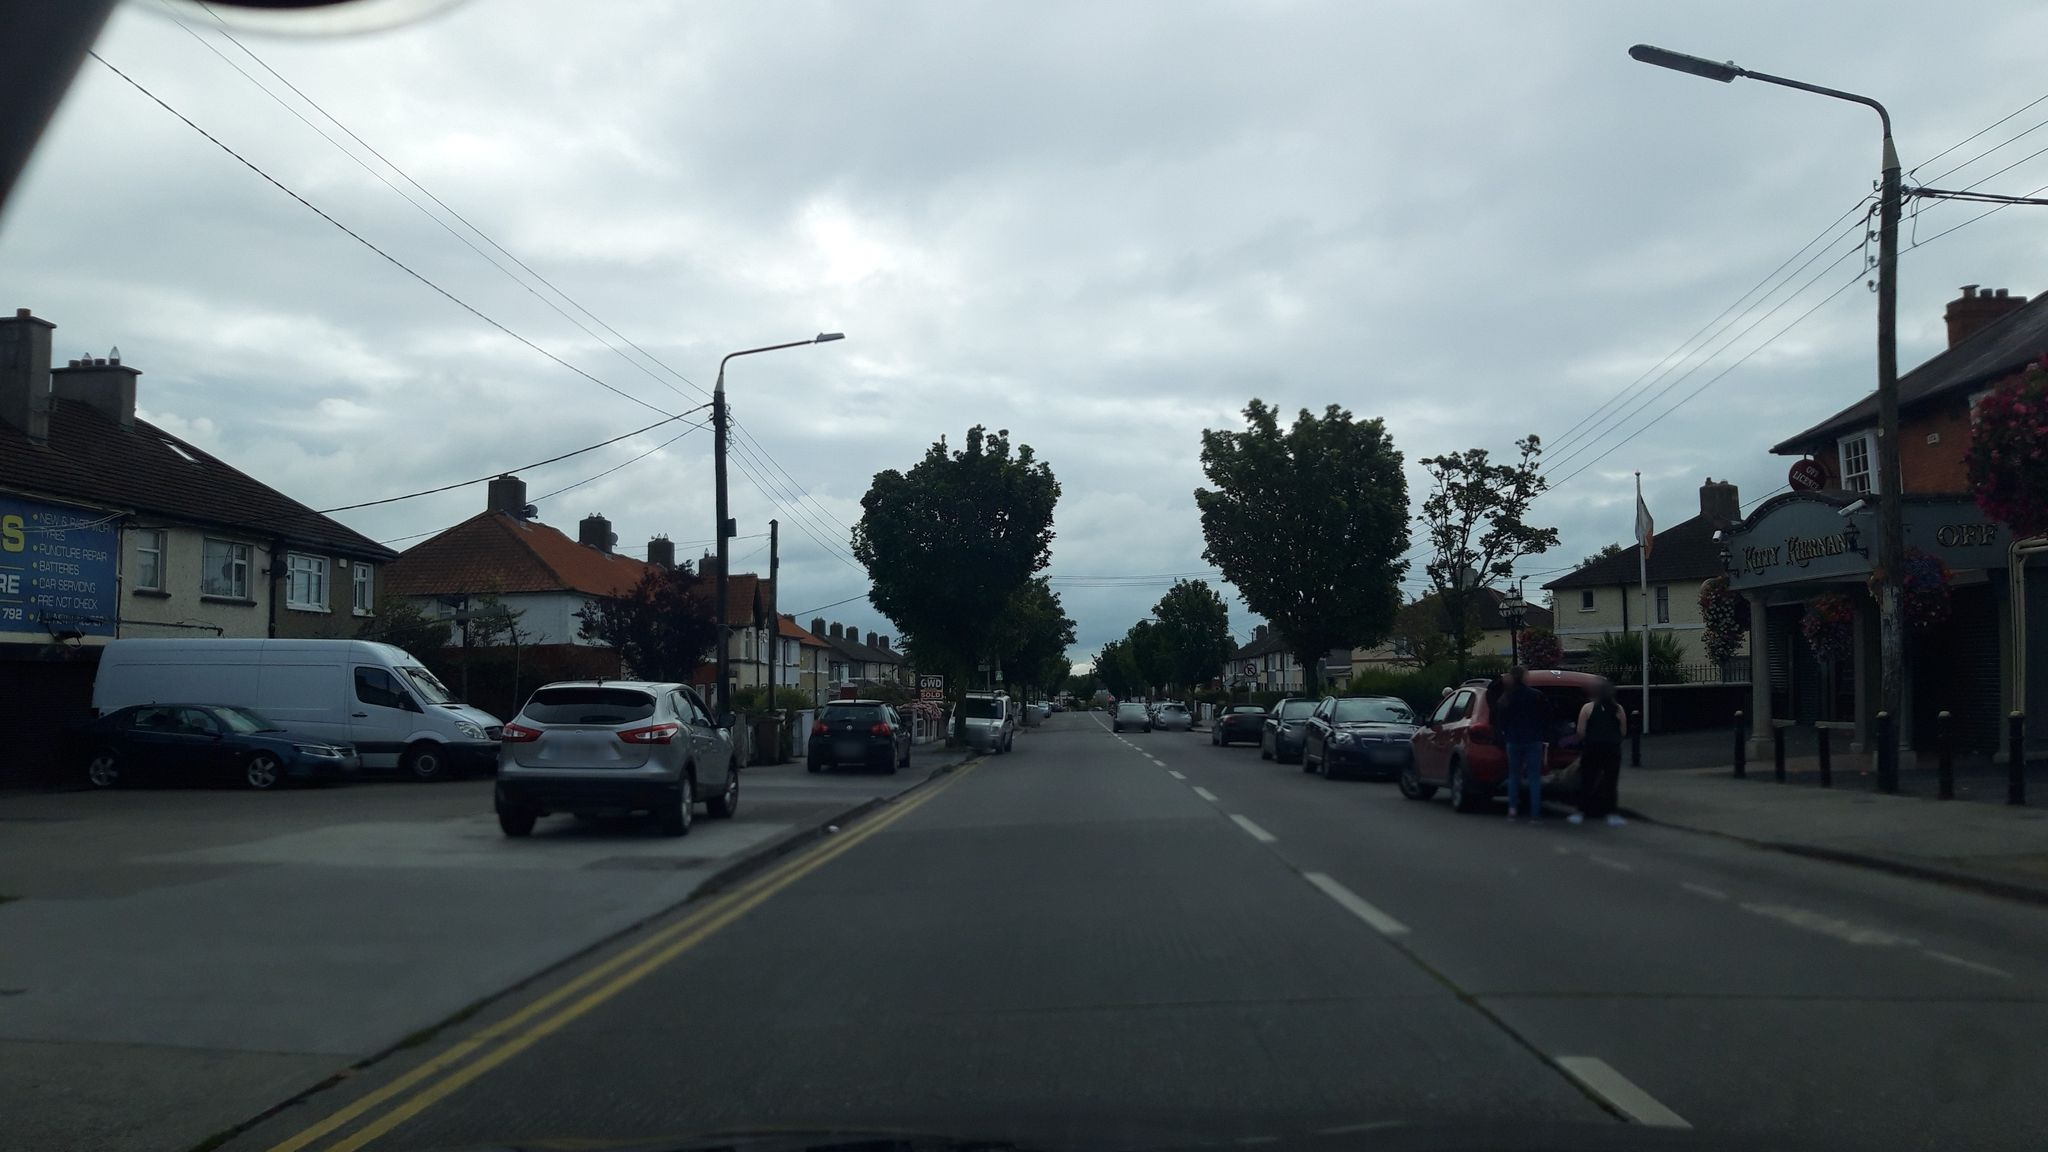property sign: (911, 668, 948, 715)
vinyl banner: (1, 492, 129, 650)
